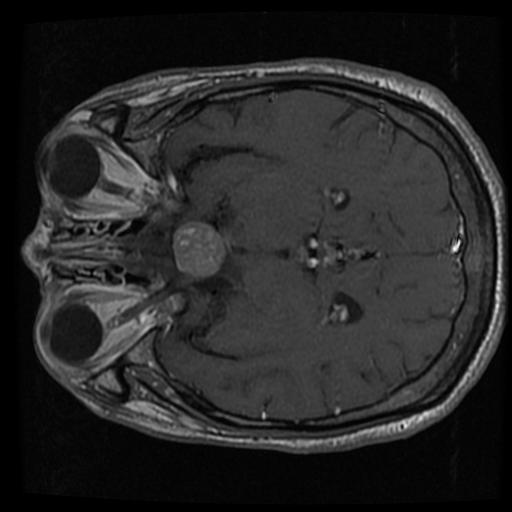pituitary tumour: (173, 223, 223, 278)
